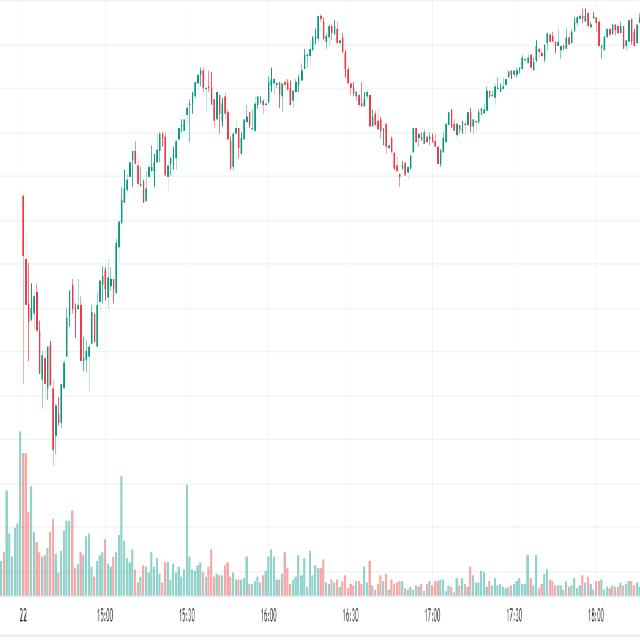Inverse-Head-Shoulders: (19, 187, 127, 475)
